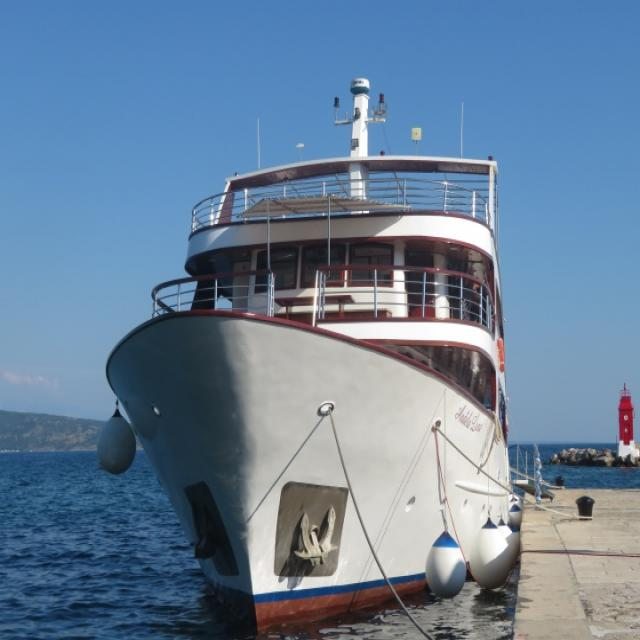cruises: (86, 75, 529, 640)
